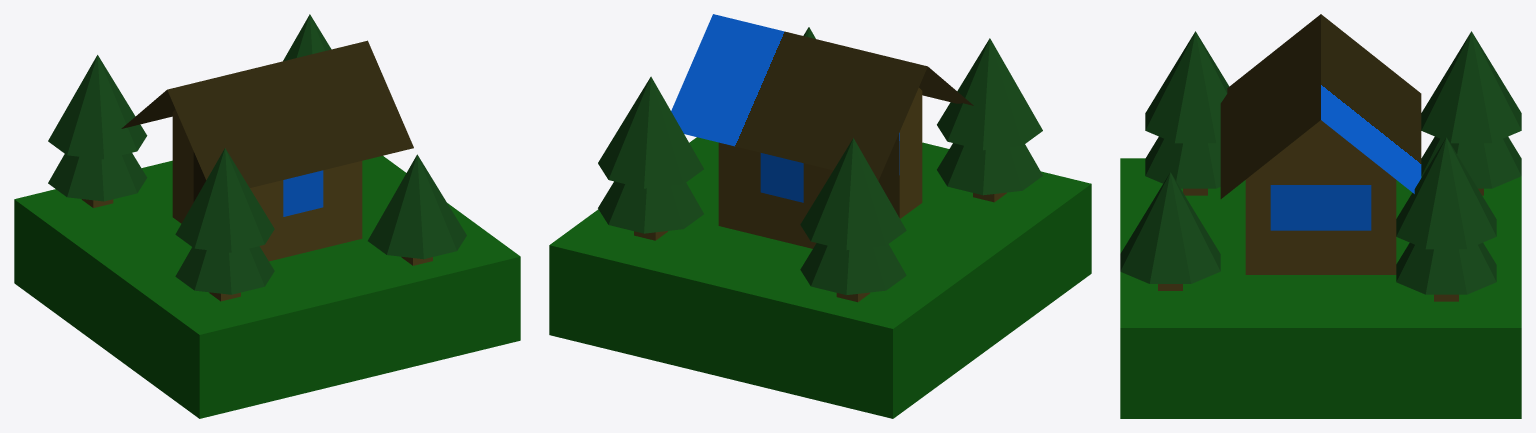
Rendered from hut.obj.
3 renders of one model, left to right at view 1: azimuth 30°, elevation 25°; view 2: azimuth 150°, elevation 25°; view 3: azimuth 270°, elevation 25°, orthographic. The views are drawn at different scales.
Parts seen in each view (by area): view 1: grass, plane, cone, cuboid, cylinder; view 2: grass, cone, plane, cuboid, cylinder; view 3: grass, cone, plane, cuboid, cylinder.
Boxes of the visible parts, bbox=[...] form: grass: bbox=[14, 156, 520, 418]; plane: bbox=[121, 40, 413, 216]; cone: bbox=[48, 14, 466, 294]; cuboid: bbox=[172, 112, 362, 261]; cylinder: bbox=[81, 199, 432, 301]; grass: bbox=[549, 137, 1091, 418]; cone: bbox=[598, 27, 1042, 294]; plane: bbox=[671, 14, 973, 217]; cuboid: bbox=[718, 91, 922, 248]; cylinder: bbox=[634, 192, 1006, 302]; grass: bbox=[1120, 158, 1521, 418]; cone: bbox=[1120, 31, 1521, 294]; plane: bbox=[1220, 14, 1421, 230]; cuboid: bbox=[1245, 161, 1396, 274]; cylinder: bbox=[1158, 188, 1483, 301].
Bounding box in the file's own units: 0.25 × 0.1836 × 0.25.
1 material, 1 textured.
